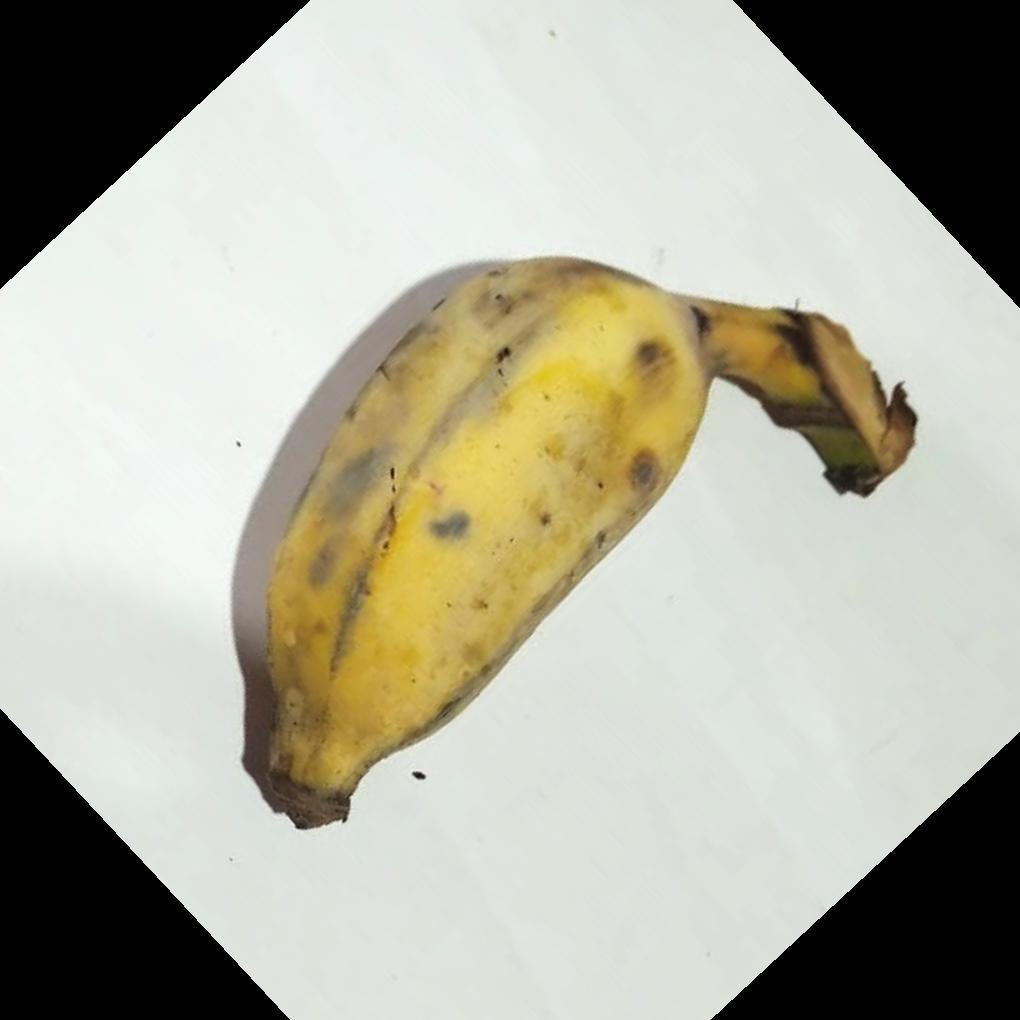Banana Ripe: (242, 236, 874, 763)
